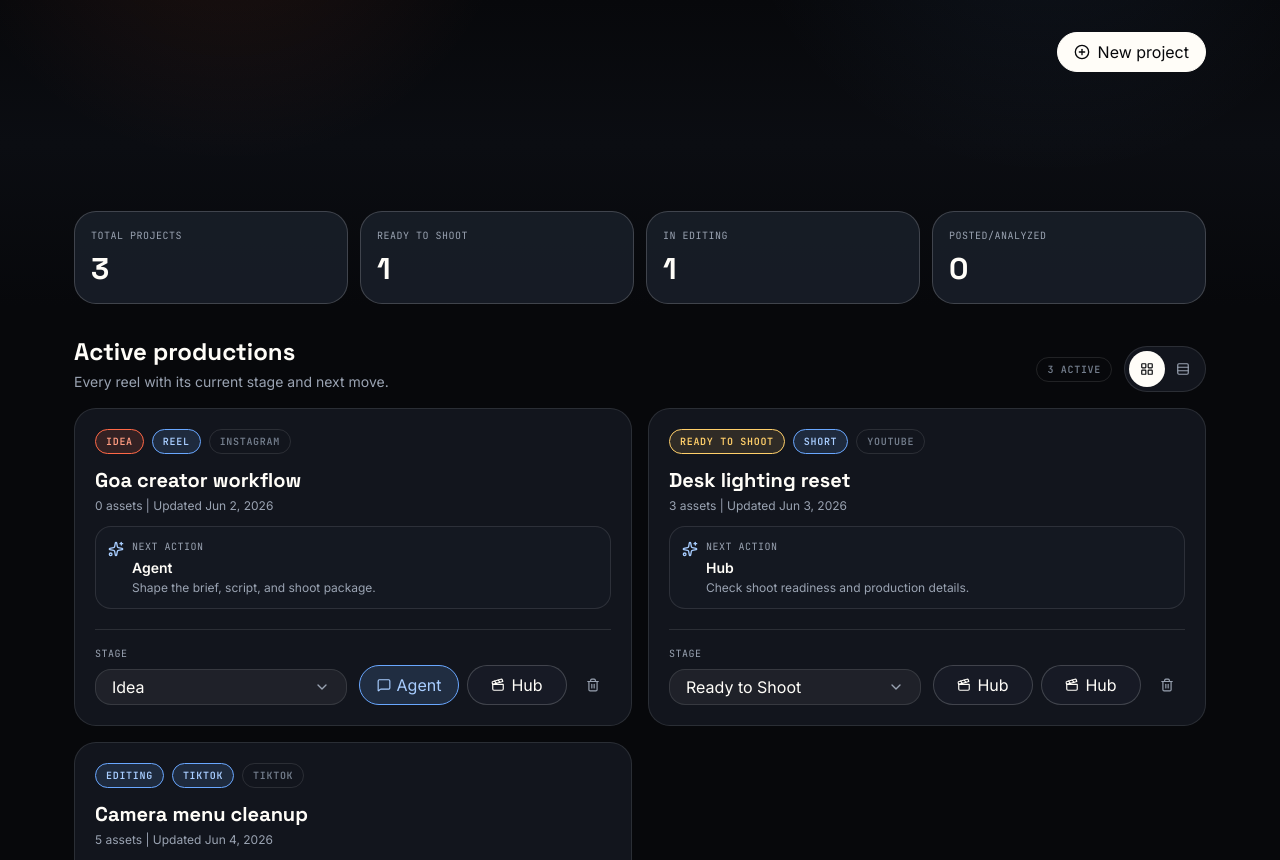
Test: HomePageClient › keeps project creation entry point behavior unchanged
Click the button "New project" at (1131, 52), box x1=1057 y1=32 x2=1206 y2=72
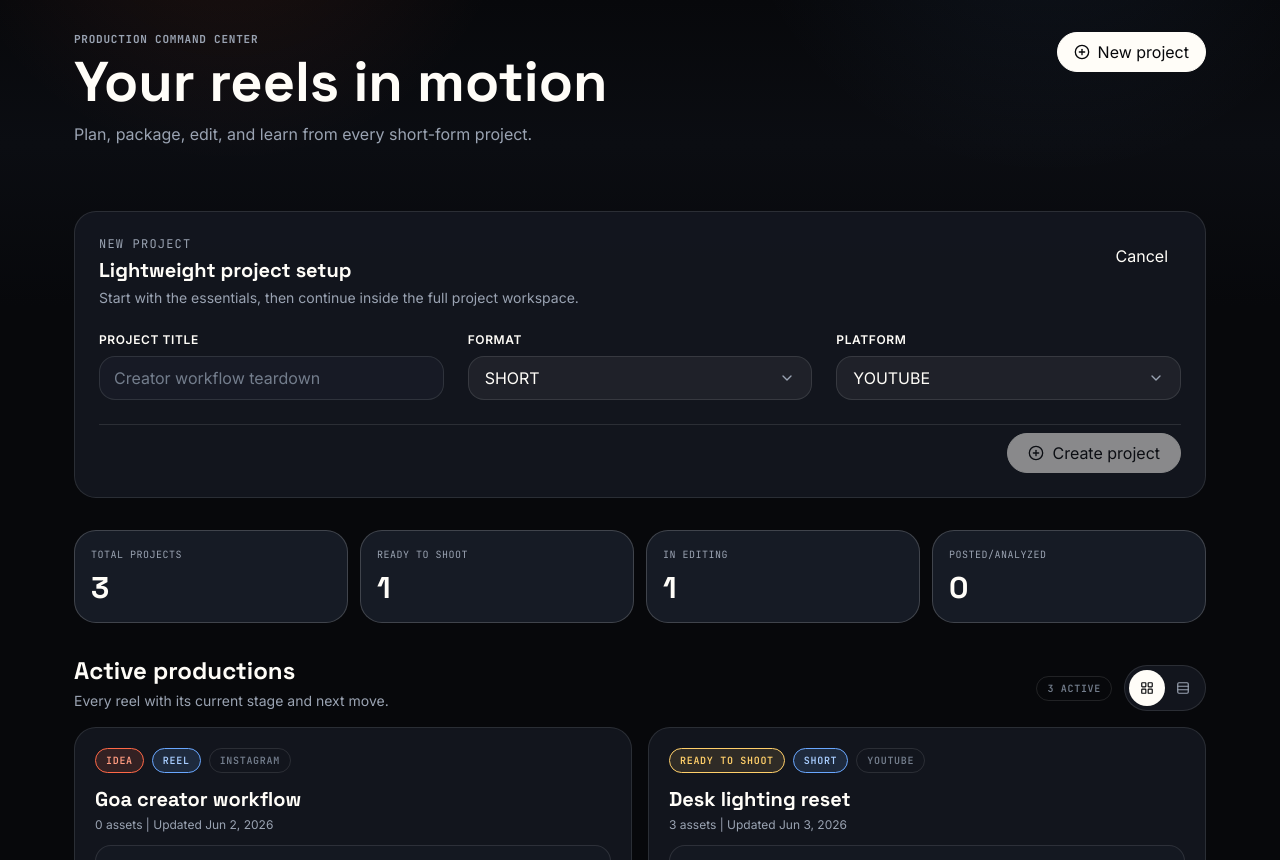
Now the field labelled "Project title" is shown, box x1=99 y1=356 x2=444 y2=400
